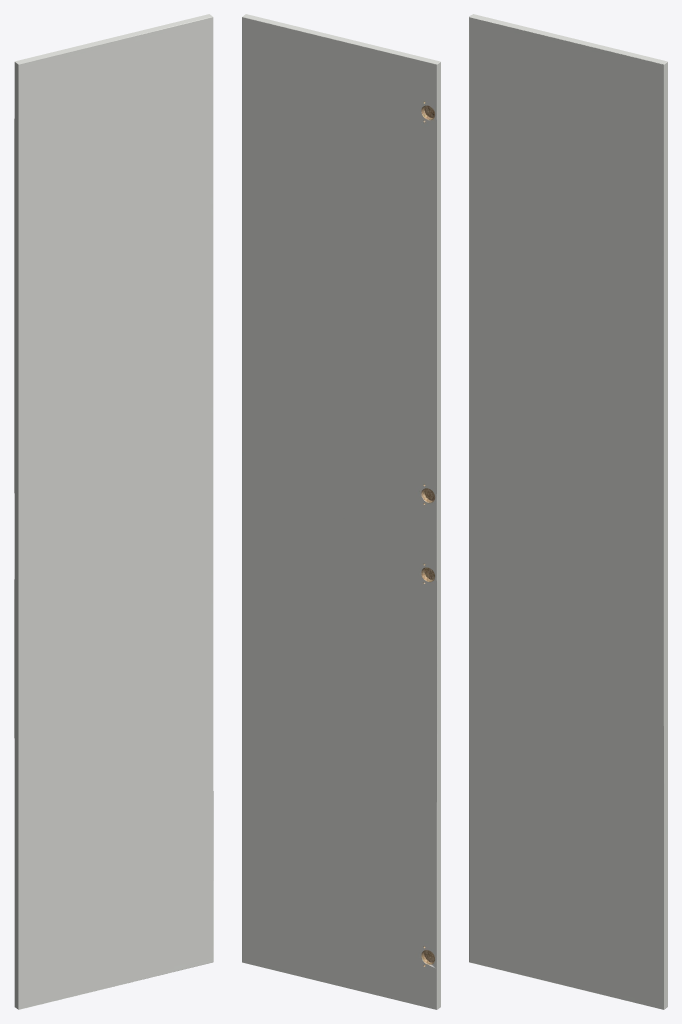
Rendered from forsand_drzwi_60391091.glb.
The picture shows the model from 3 angles, left to right: view 1: azimuth 30°, elevation 25°; view 2: azimuth 150°, elevation 25°; view 3: azimuth 330°, elevation 25°; orthographic projection.
Visible parts, largest first — view 1: forsand_drzwi_60391091; view 2: forsand_drzwi_60391091; view 3: forsand_drzwi_60391091.
Boxes of the visible parts, x1,y1,x2,y2 form: forsand_drzwi_60391091: (14, 14, 213, 1009); forsand_drzwi_60391091: (242, 14, 440, 1009); forsand_drzwi_60391091: (469, 14, 667, 1009).
Size of the model in its own units: 0.4955 by 2.29 by 0.0181.
Materials: 1 (1 with a texture image).
